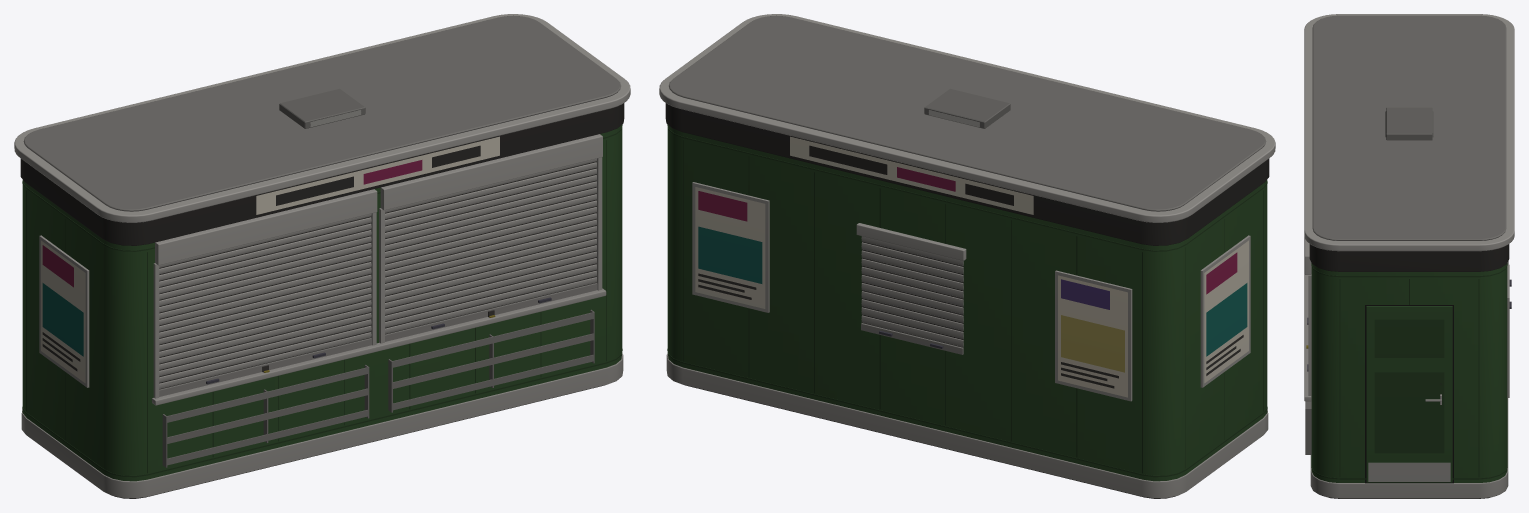
The model's file is kiosk_long.glb.
3 renders of one model, left to right at view 1: azimuth 30°, elevation 25°; view 2: azimuth 150°, elevation 25°; view 3: azimuth 270°, elevation 25°, orthographic. The views are drawn at different scales.
Parts seen in each view (by area): view 1: kiosk_long; view 2: kiosk_long; view 3: kiosk_long.
Boxes of the visible parts, x1=… form: kiosk_long: x1=14, y1=14, x2=630, y2=498; kiosk_long: x1=659, y1=14, x2=1275, y2=498; kiosk_long: x1=1304, y1=14, x2=1514, y2=498.
Size of the model in its own units: 5.2 by 2.8 by 2.
